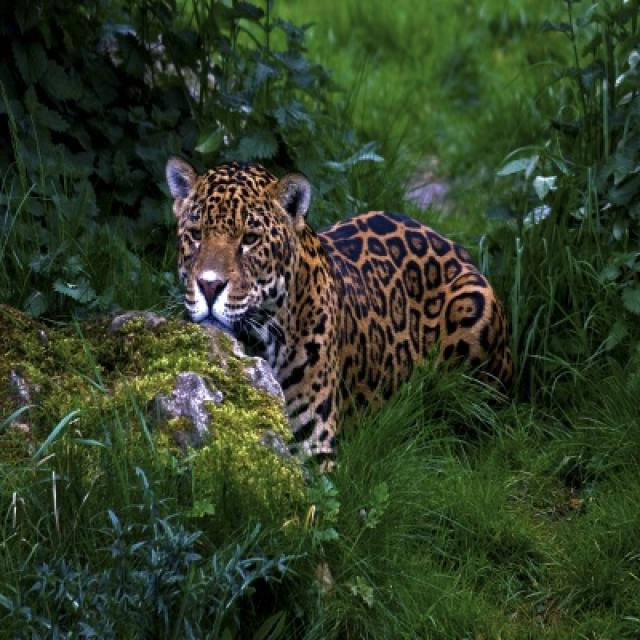Jaguar: (165, 158, 514, 469)
